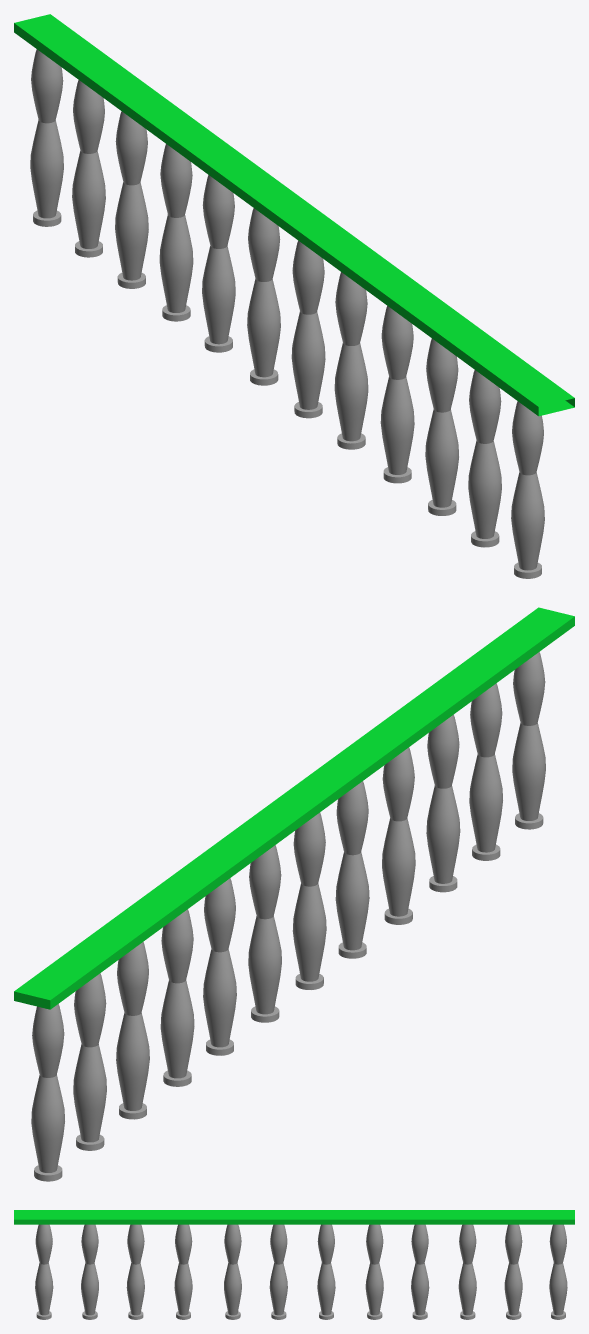
File: barriere.fbx
3 renders of one model, top to bottom at view 1: azimuth 30°, elevation 25°; view 2: azimuth 150°, elevation 25°; view 3: azimuth 270°, elevation 25°, orthographic. The views are drawn at different scales.
Parts seen in each view (by area): view 1: barriere; view 2: barriere; view 3: barriere.
Part boxes in pixels (<box>): barriere: <box>14,14,574,578</box>; barriere: <box>14,607,574,1181</box>; barriere: <box>14,1210,574,1319</box>.
Bounding box in the file's own units: 20.72 × 104 × 517.
